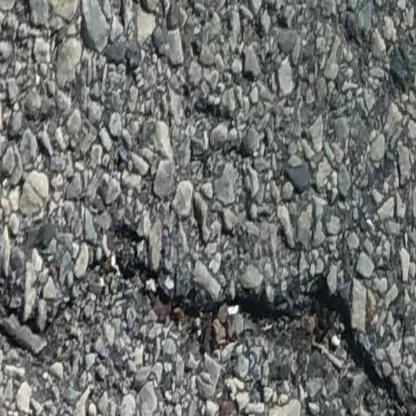Cracks: (0, 222, 416, 416)
